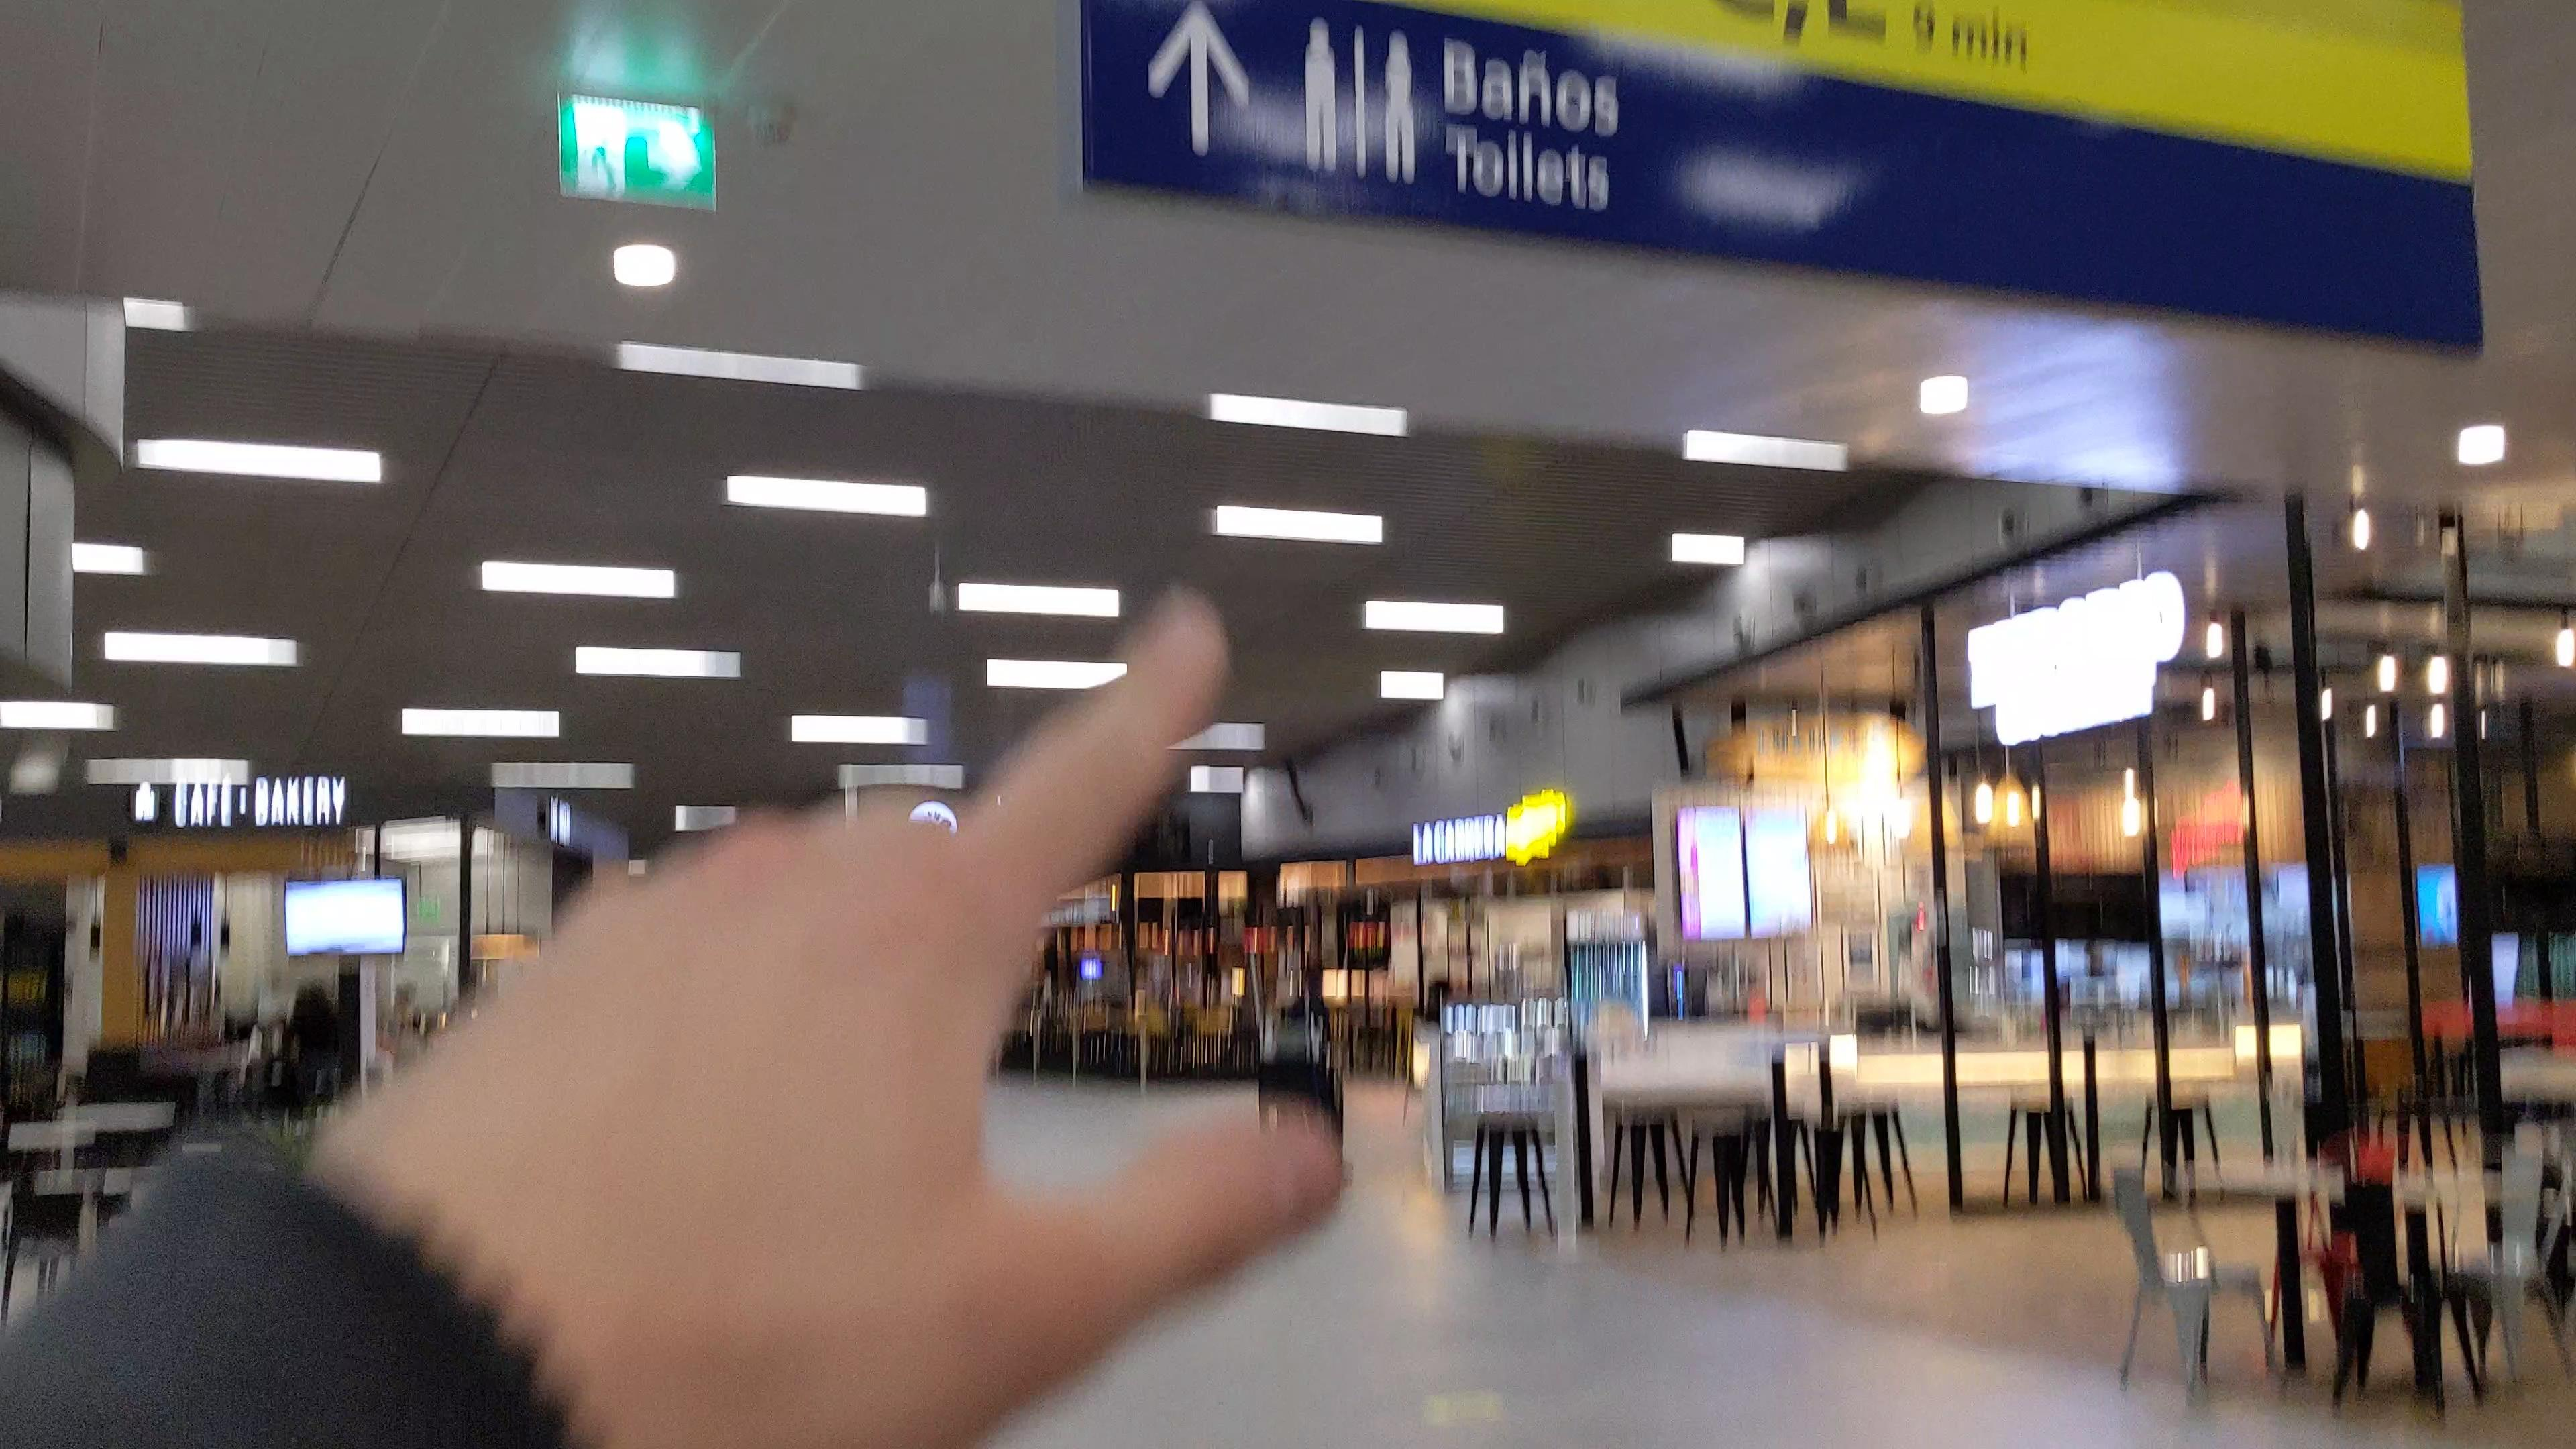bathrooms: (1297, 14, 1422, 184)
emergency exit: (575, 129, 623, 189)
thin up arrow: (1138, 0, 1258, 159)
